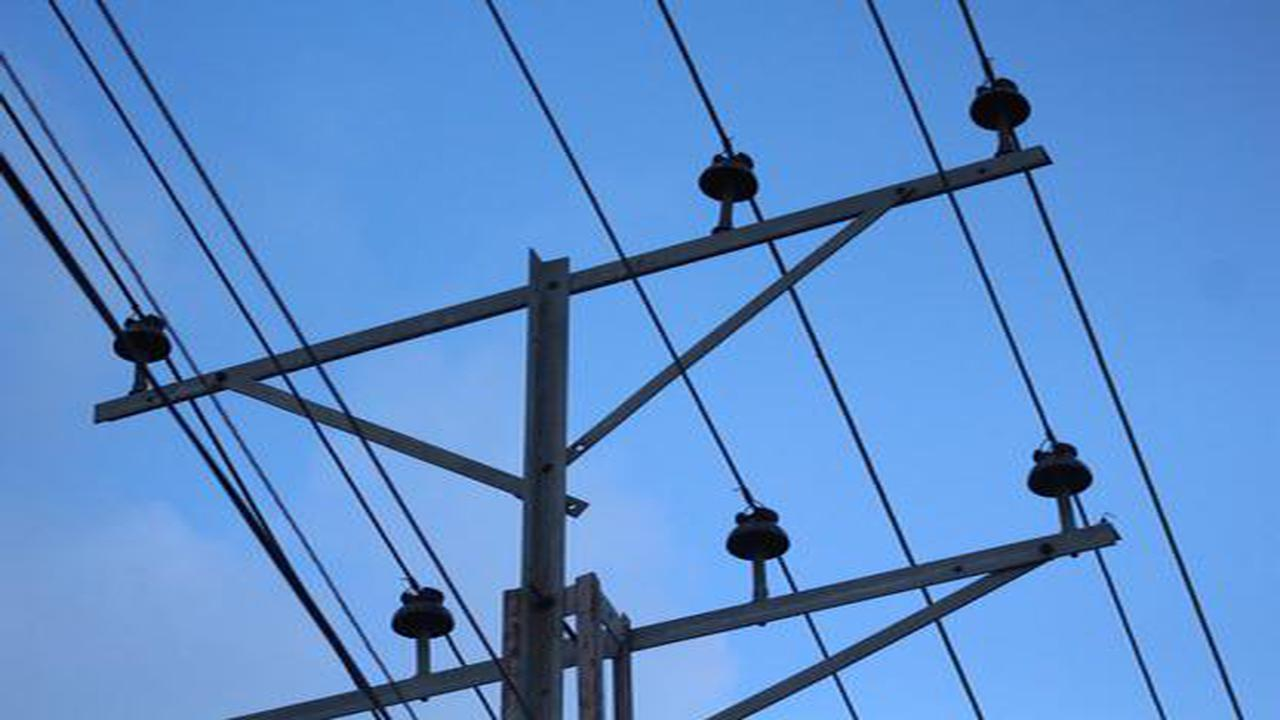insulator_pin: (957, 72, 1041, 139), (717, 499, 796, 569), (1019, 438, 1094, 508), (387, 582, 460, 648), (695, 145, 770, 209), (105, 313, 180, 371)
